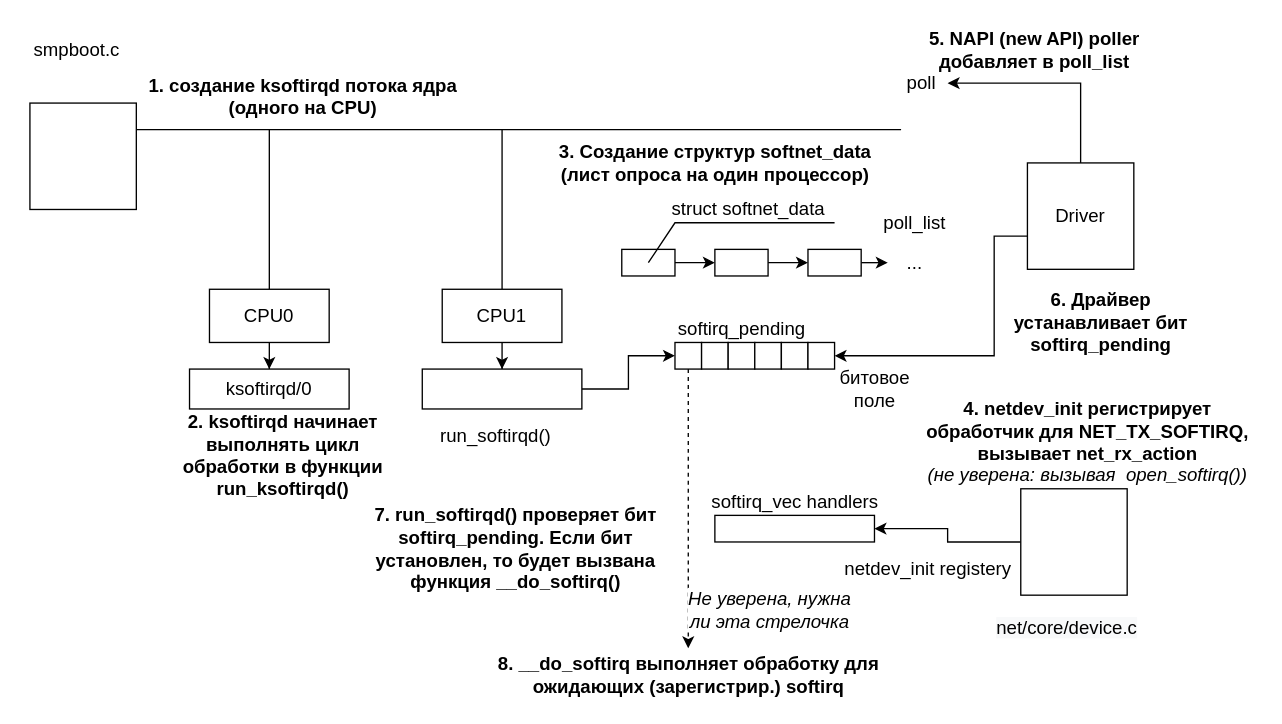
Some shapes in this 1282 by 724 pixel diagram are drawn without their labels. Each missing label, with the box of its shape:
ksoftirqd/1: (421, 368, 582, 409)
net_dev_init: (1019, 487, 1127, 595)
